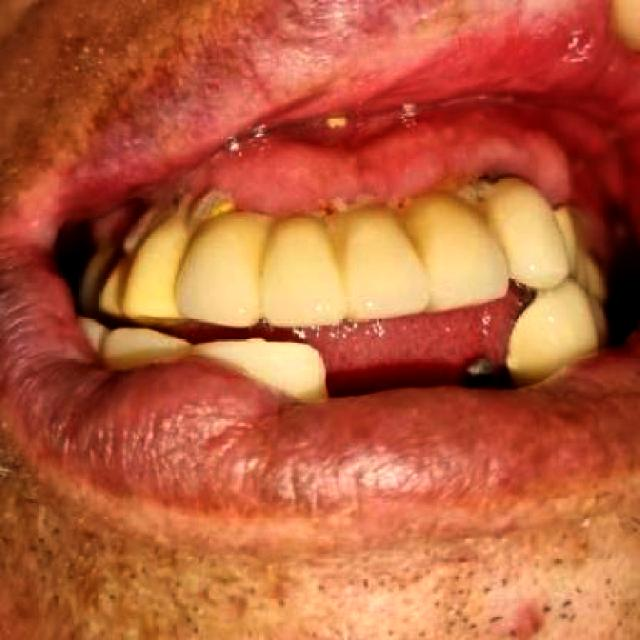Plaque: (96, 124, 598, 244)
